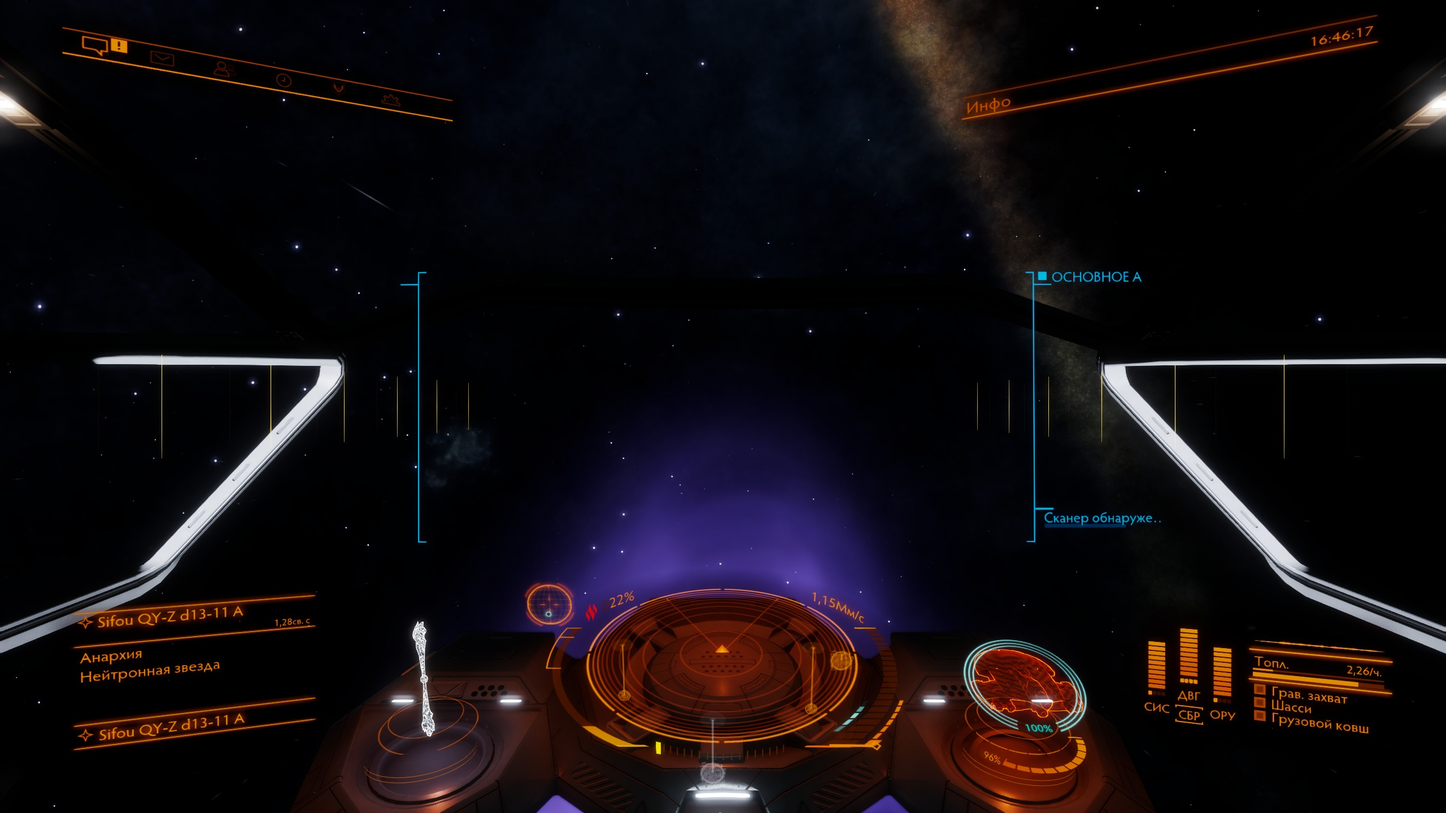core: (522, 465, 1109, 813)
jetcone: (1269, 560, 1378, 618), (1397, 626, 1446, 653)
